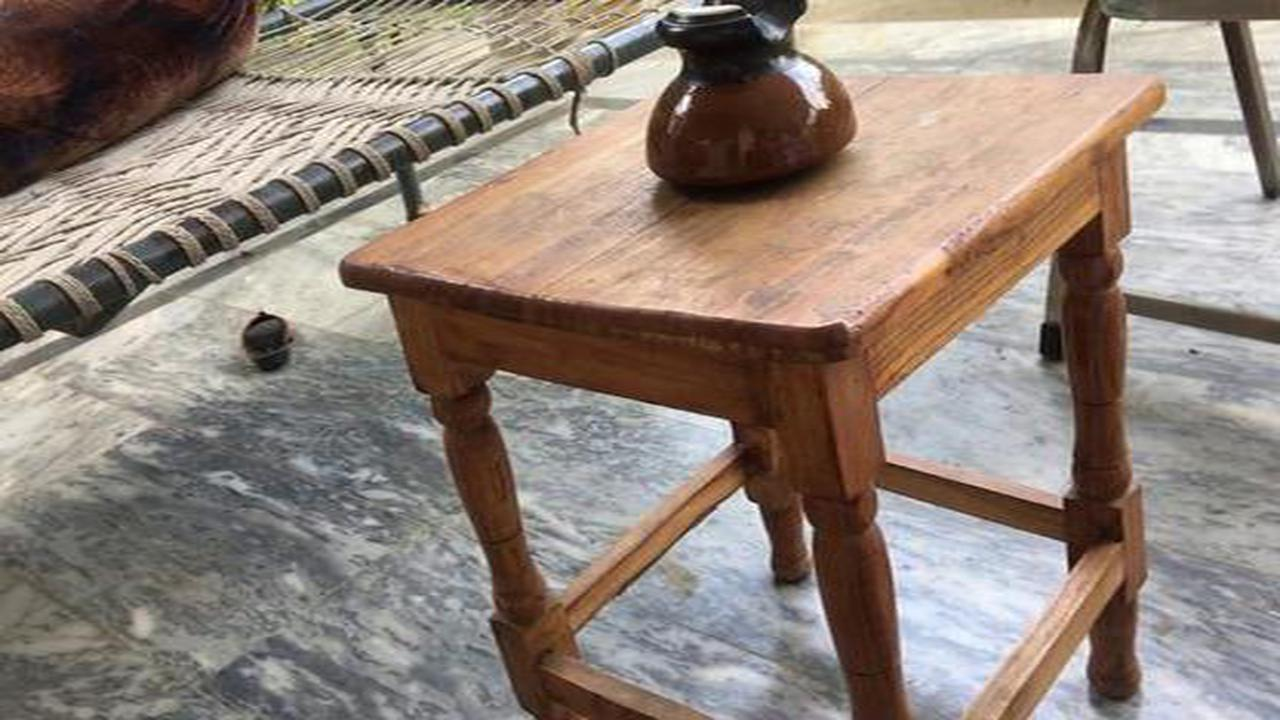insulator_pin: (634, 1, 868, 206)
